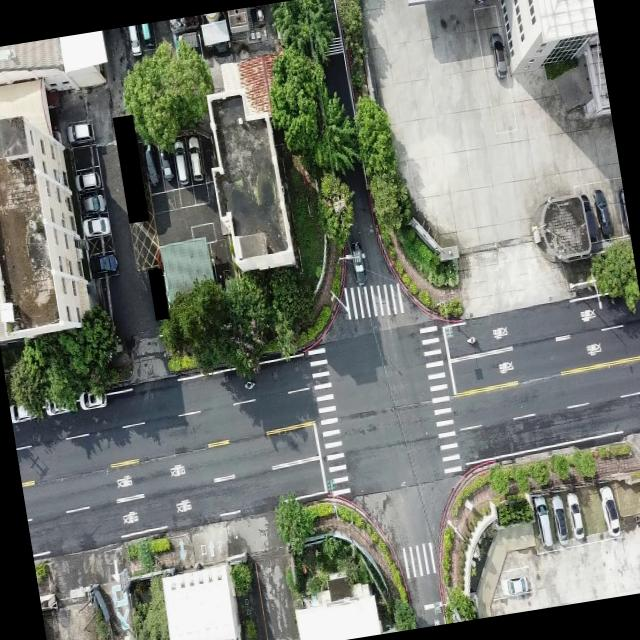bike: (240, 377, 256, 392)
car: (590, 184, 616, 241), (348, 234, 371, 292), (598, 484, 622, 539), (185, 133, 209, 185), (532, 494, 554, 550), (578, 190, 600, 242), (488, 28, 510, 79), (549, 494, 570, 546), (86, 250, 122, 280), (8, 396, 41, 428), (64, 118, 98, 148), (566, 491, 586, 541), (40, 390, 74, 419), (172, 140, 192, 189), (76, 386, 110, 414), (80, 214, 114, 242), (157, 134, 176, 183), (616, 184, 632, 240), (76, 190, 110, 215), (142, 142, 160, 188), (74, 167, 102, 193), (126, 25, 146, 60), (140, 22, 157, 54)
